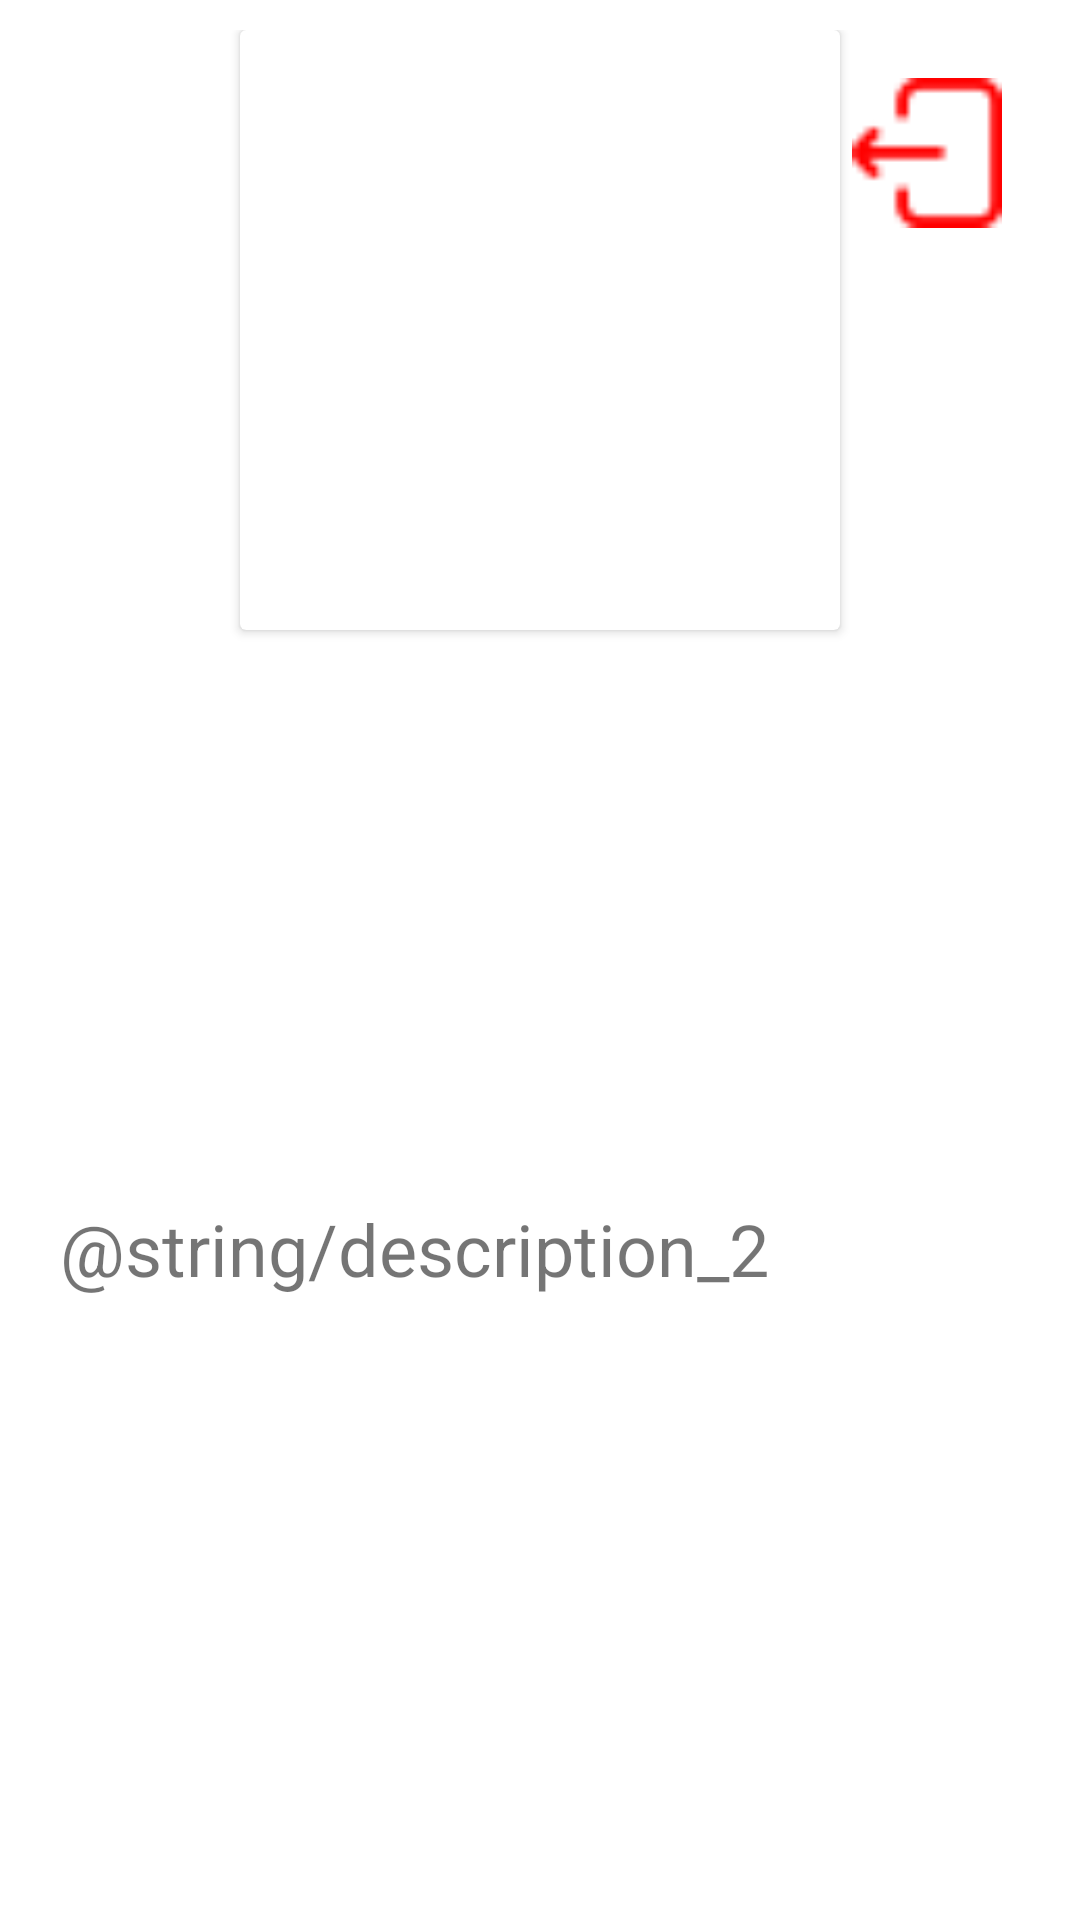

Icon bounding boxes for this 1080w x 1920h phone screenshot, format bbox=[x1, y1, x2, y2]:
exit: bbox=[852, 78, 1002, 228]
